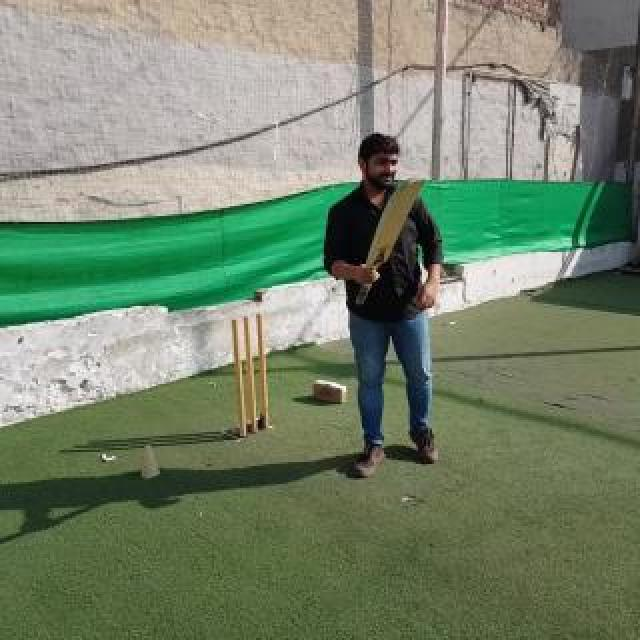bat: (357, 176, 427, 306)
